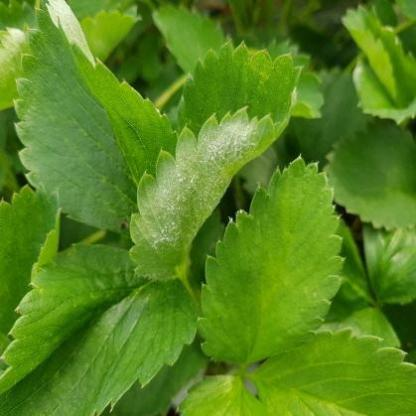Strawberry_Powdery_Mildew_Leaf: (129, 40, 306, 282)
